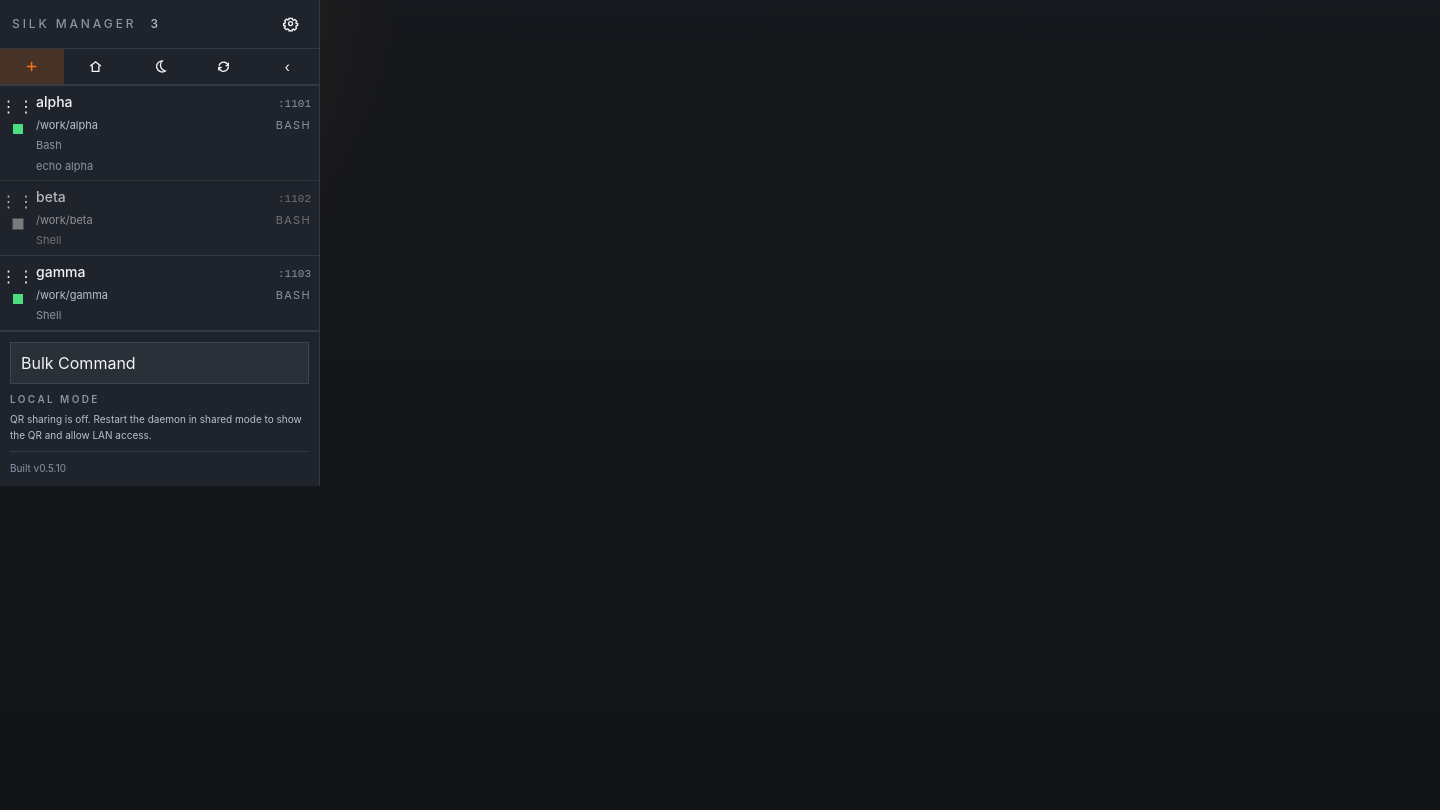
Sidebar › opens the settings modal from the header cog
Click the button titled "Open settings".
click(291, 24)  # box [275, 8, 307, 40]
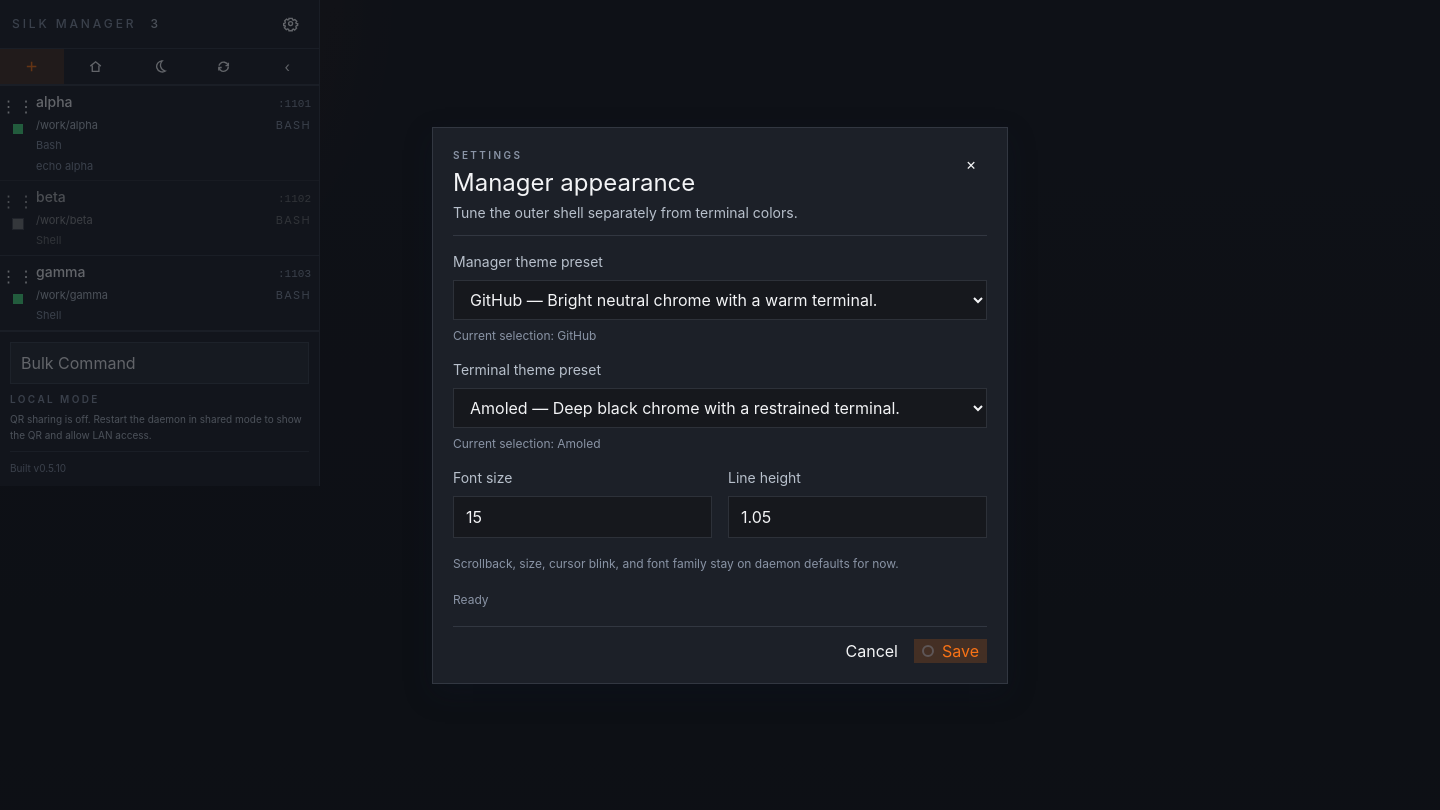
Check: the text "Manager appearance" is shown, box [453, 168, 695, 196]
Check: the text "Manager theme preset" is shown, box [453, 252, 603, 270]
Check: the text "Terminal theme preset" is shown, box [453, 360, 601, 378]
